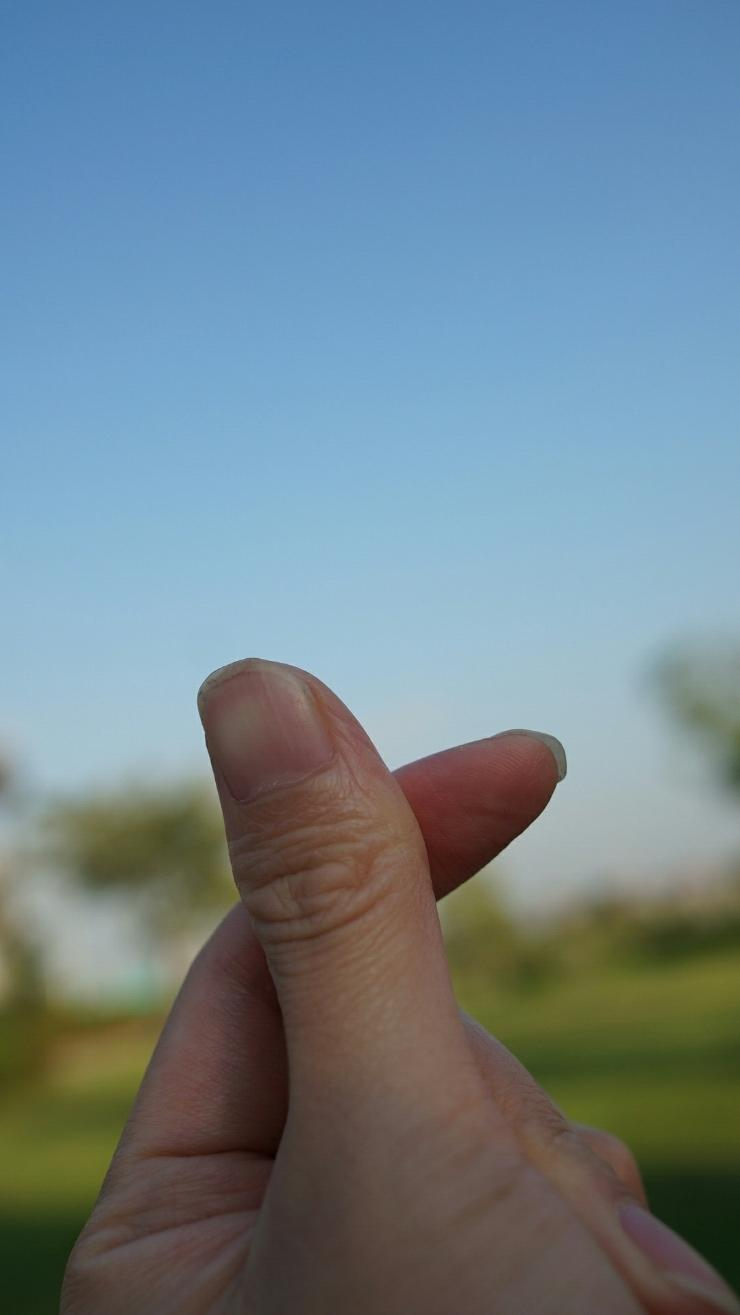heart gesture: (191, 653, 576, 1041)
